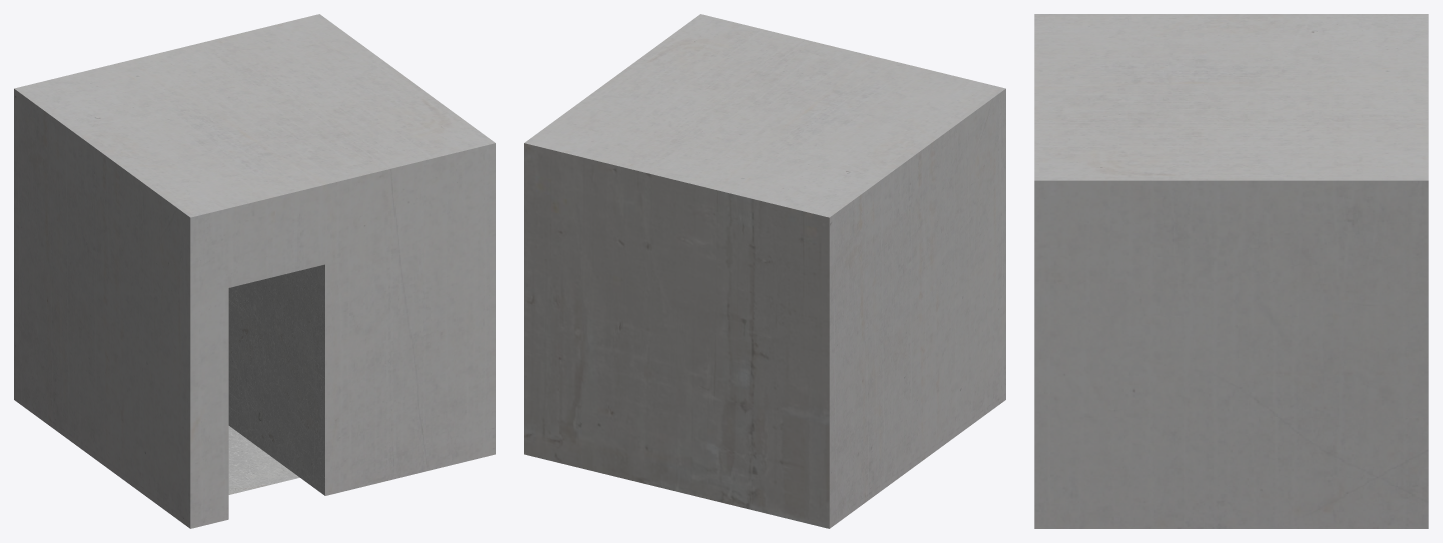
Rendered from Building2_SmallBuilding.fbx.
The picture shows the model from 3 angles, left to right: view 1: azimuth 30°, elevation 25°; view 2: azimuth 150°, elevation 25°; view 3: azimuth 270°, elevation 25°; orthographic projection. The views are drawn at different scales.
Parts seen in each view (by area): view 1: Exit_Way; view 2: Exit_Way; view 3: Exit_Way.
Part boxes in pixels (box(x1,y1,x2,y2)): Exit_Way: box(14, 14, 495, 528); Exit_Way: box(524, 14, 1005, 528); Exit_Way: box(1034, 14, 1428, 528).
Bounding box in the file's own units: 307 × 299 × 307.
